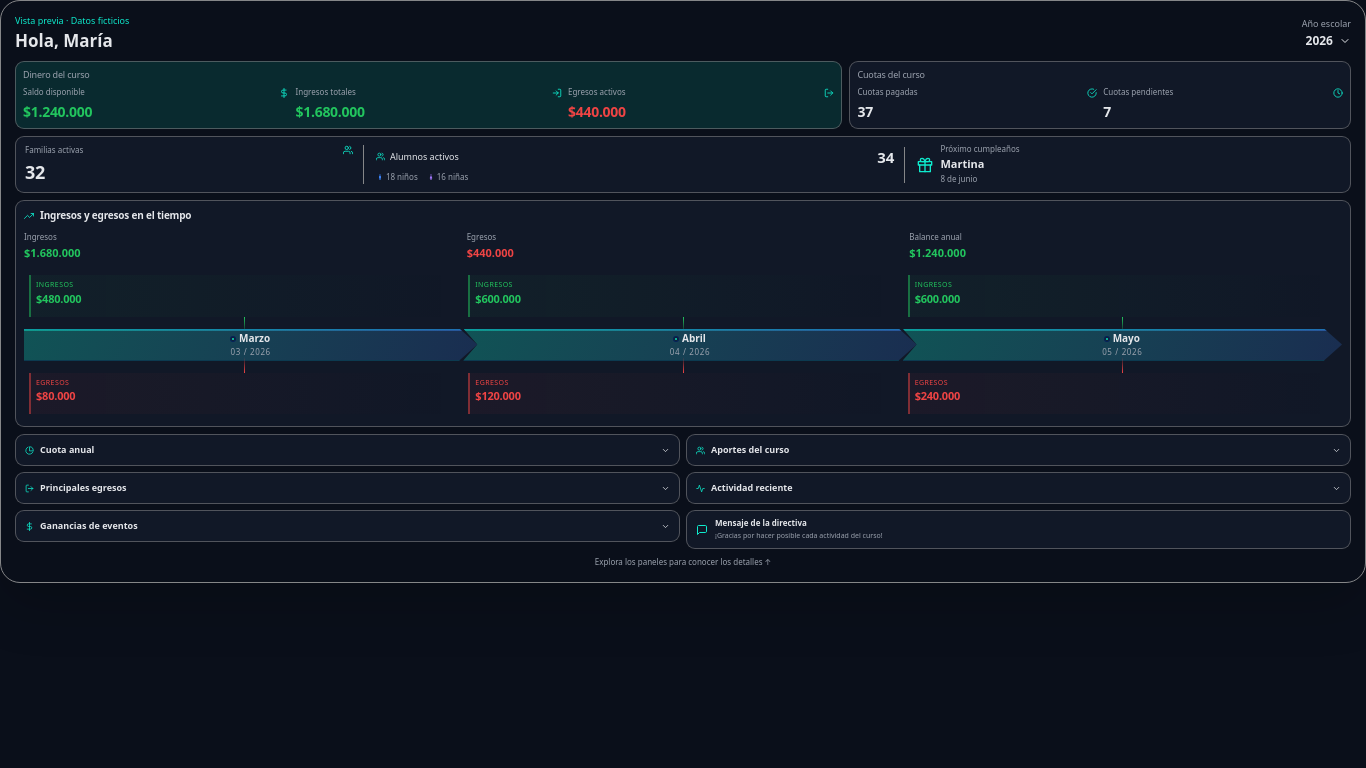
Test: HomeDashboardPreview › permite explorar los detalles y mantiene un solo panel abierto
Click the button "Cuota anual" at (67, 450), box [16, 435, 679, 465]
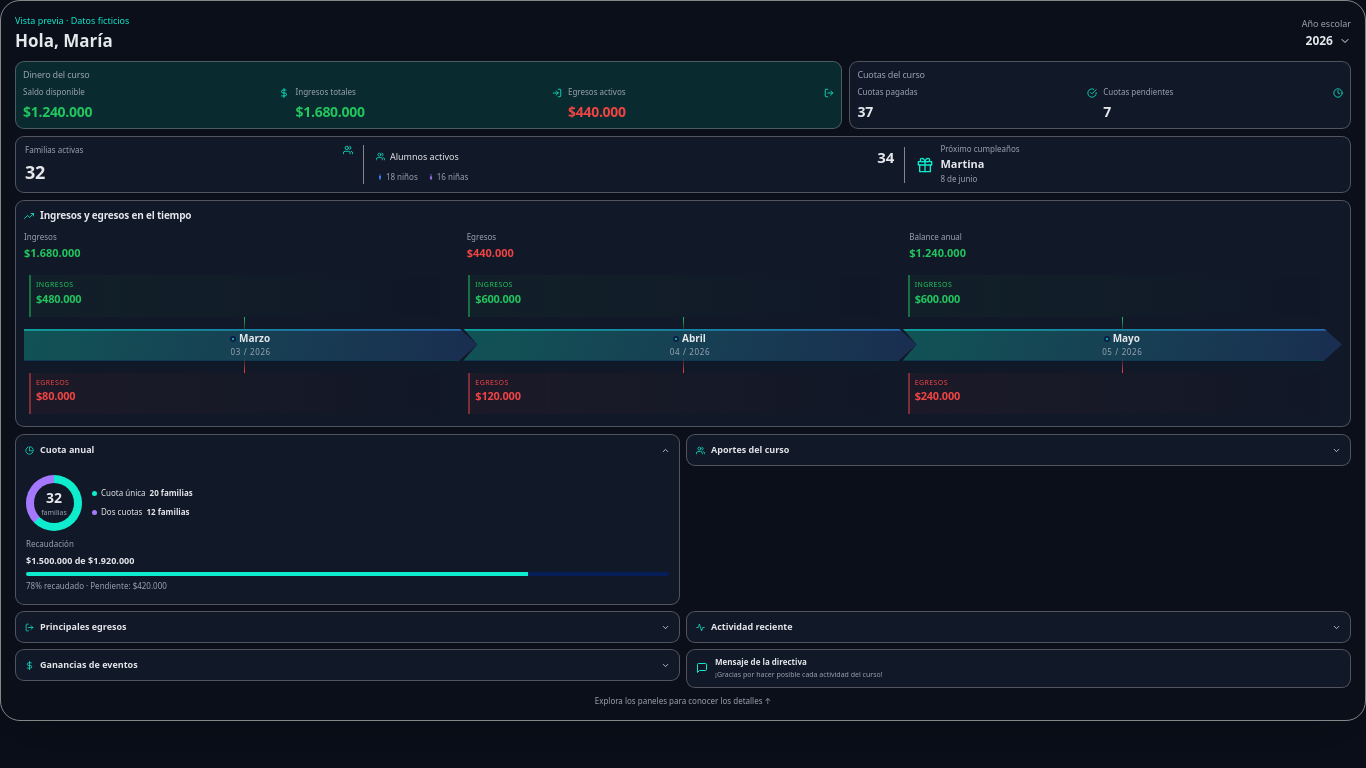
Expected: the text "$1.500.000 de $1.920.000" is shown, [26, 554, 134, 567]
Click the button "Aportes del curso" at (750, 450), box [687, 435, 1350, 465]
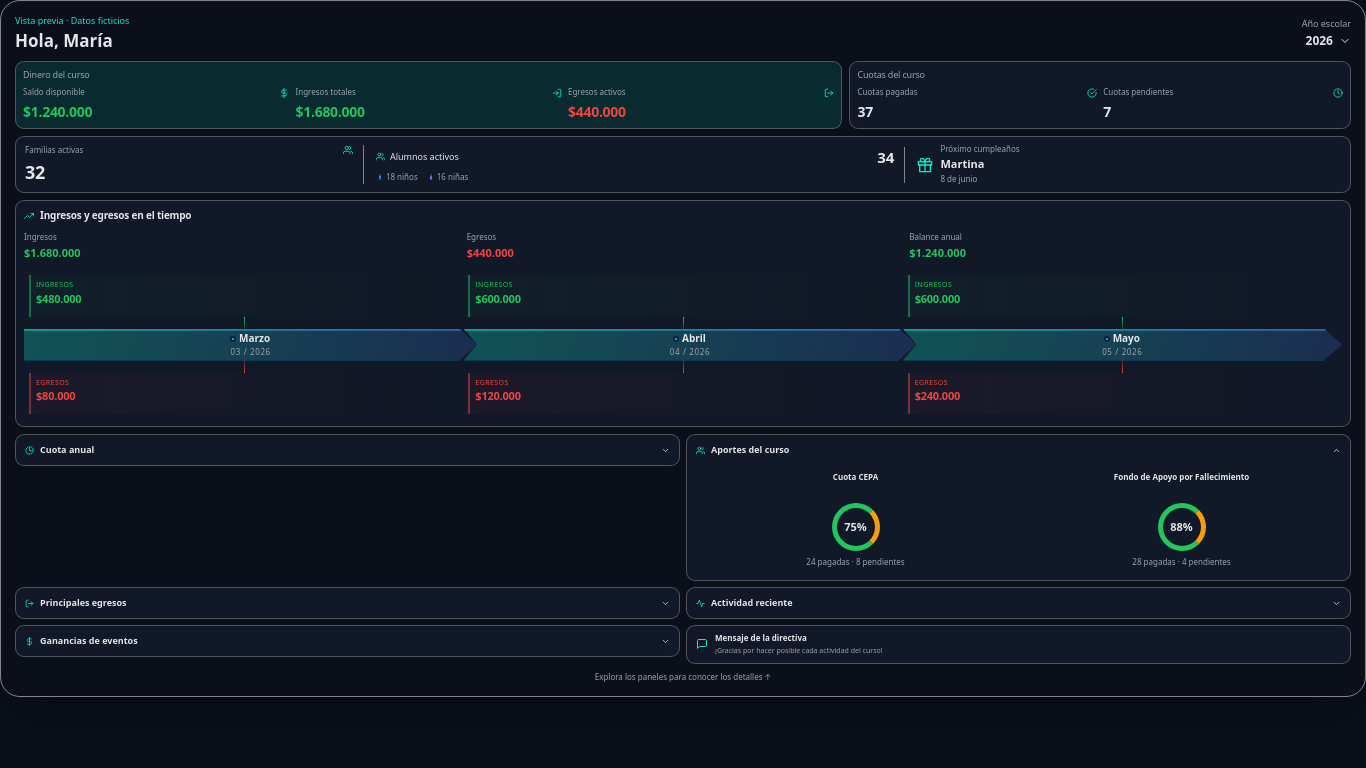
Expected: the text "$1.500.000 de $1.920.000" is gone
Expected: the text "Cuota CEPA" is shown, [833, 471, 878, 482]
Click the button "Aportes del curso" at (750, 450), box [687, 435, 1350, 465]
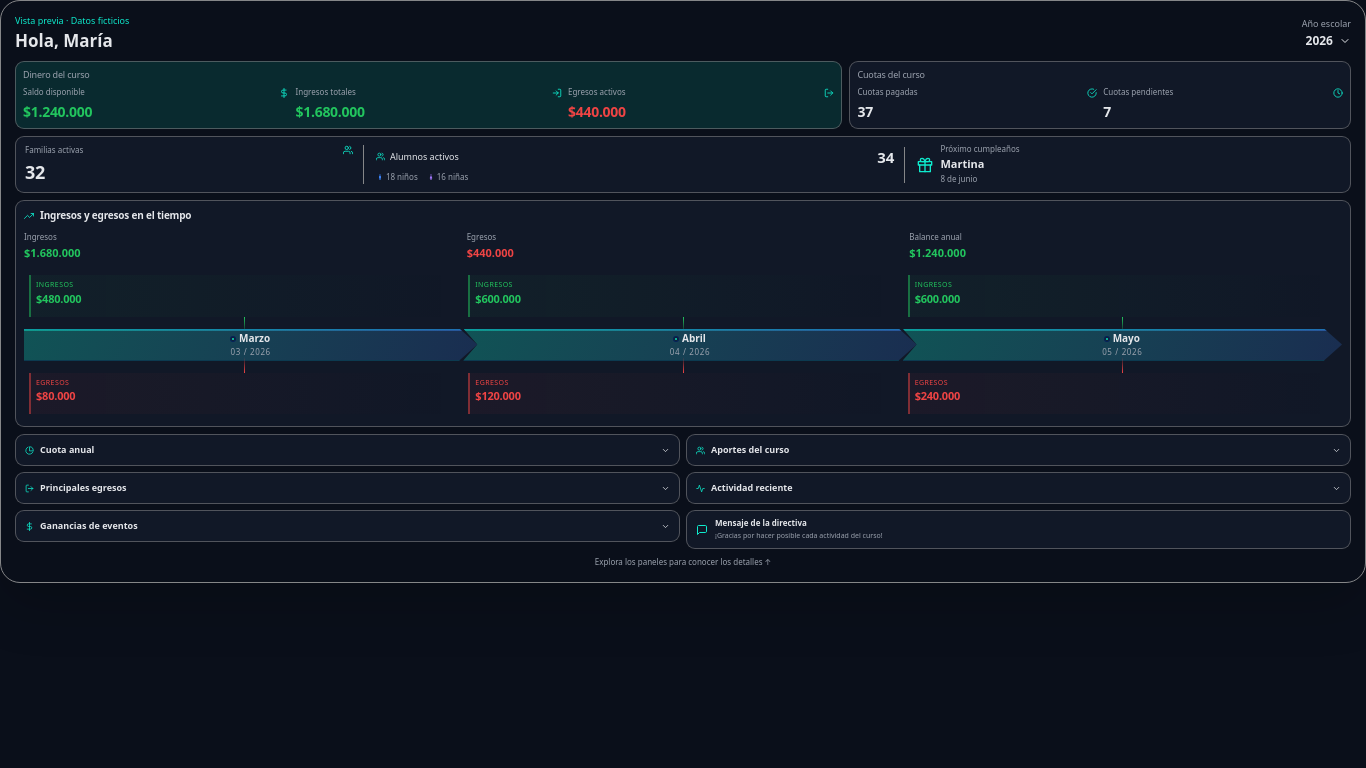
Expected: the text "Cuota CEPA" is gone
